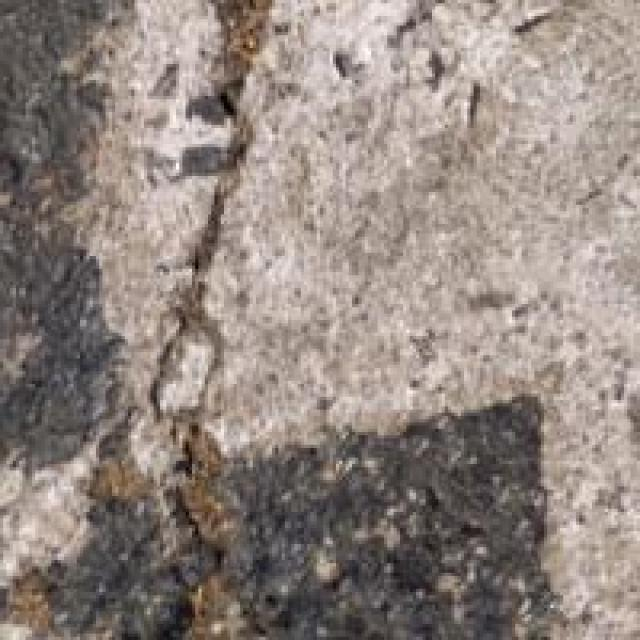crack: (125, 4, 320, 422)
